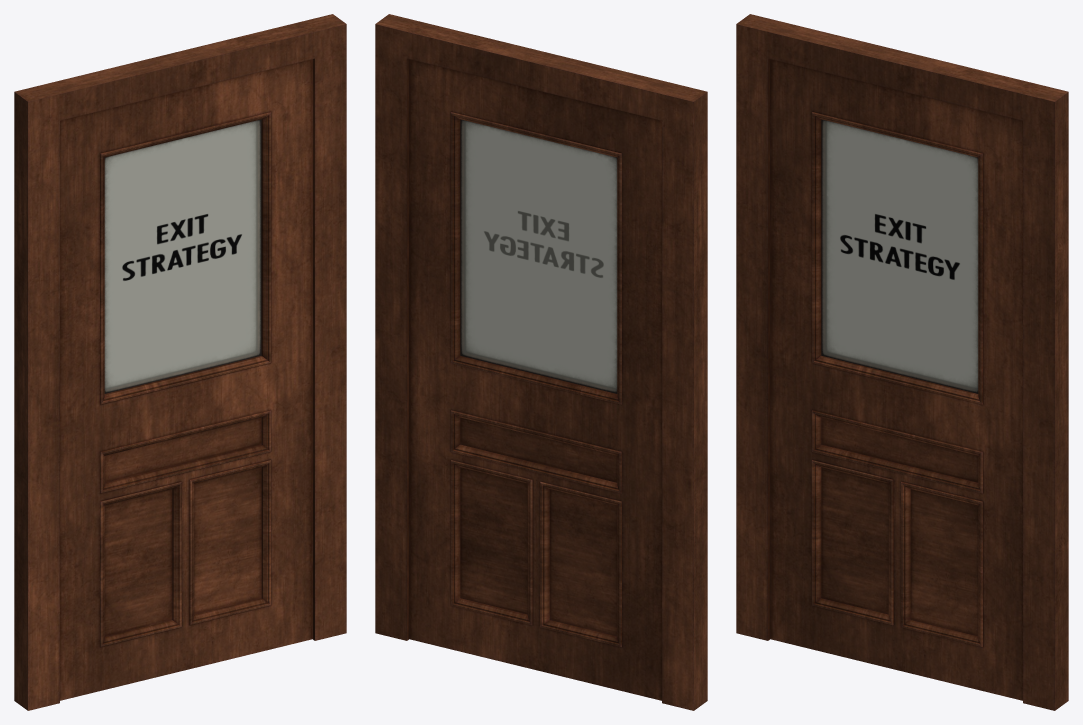
File: Dream_exit1.glb
3 renders of one model, left to right at view 1: azimuth 30°, elevation 25°; view 2: azimuth 150°, elevation 25°; view 3: azimuth 330°, elevation 25°, orthographic.
Parts seen in each view (by area): view 1: Door, Frame; view 2: Door, Frame; view 3: Door, Frame.
Boxes of the visible parts, <box> form: Door: <box>60,59,312,700</box>; Frame: <box>14,14,346,710</box>; Door: <box>409,59,661,700</box>; Frame: <box>375,14,707,710</box>; Door: <box>770,59,1022,700</box>; Frame: <box>736,14,1068,710</box>.
Bounding box in the file's own units: 1.25 × 2.28 × 0.0944.
Materials: 1 (1 with a texture image).
